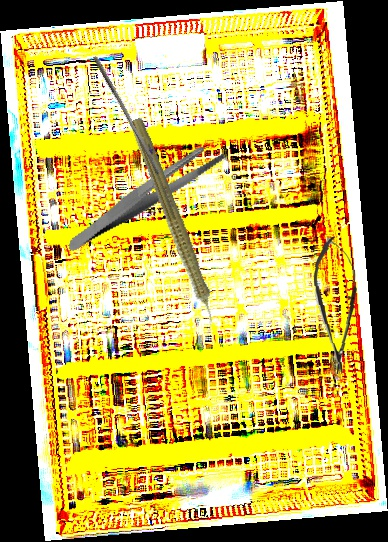Dressing Forceps: (52, 141, 238, 252)
Handpiece: (120, 115, 230, 342)
Micro Scissor: (311, 235, 362, 375)
Pusher: (87, 54, 166, 176)
